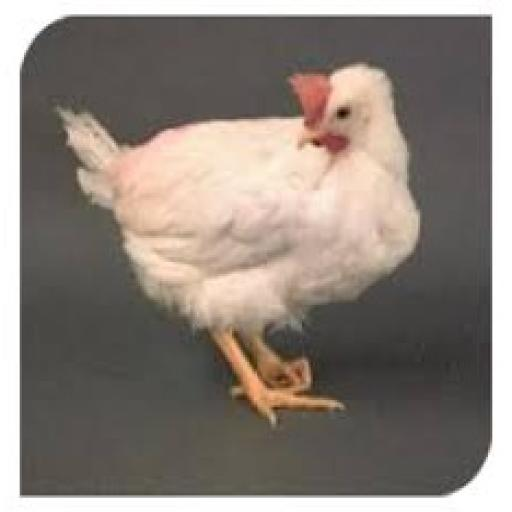healthy: (280, 63, 377, 167)
